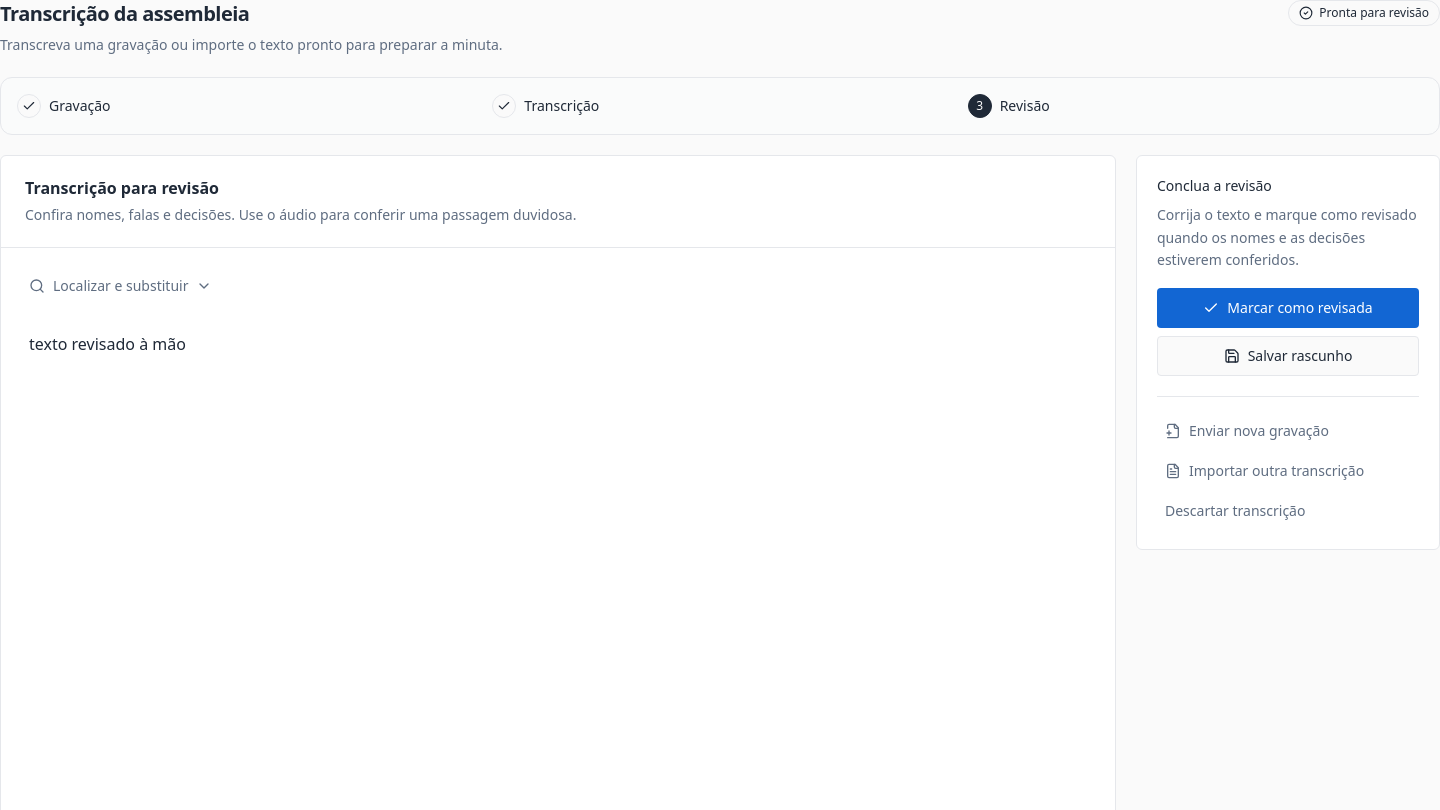
Test: AtaTranscriptionPanel › returns the panel to the upload state after discarding
Click the button "Descartar transcrição" at (1288, 511), box [1157,493,1419,529]
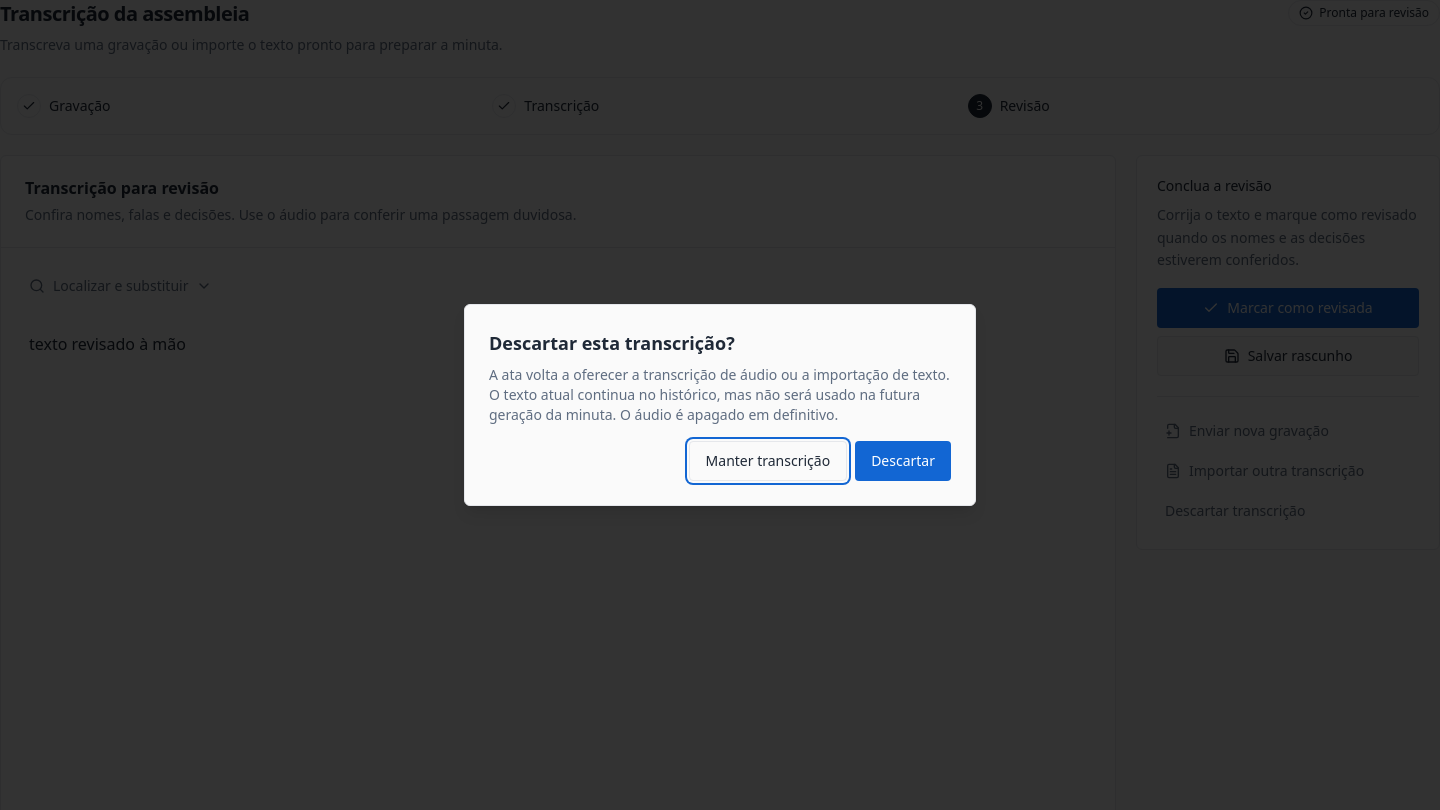
Click the button "Descartar" at (903, 461), box [855,441,951,481]
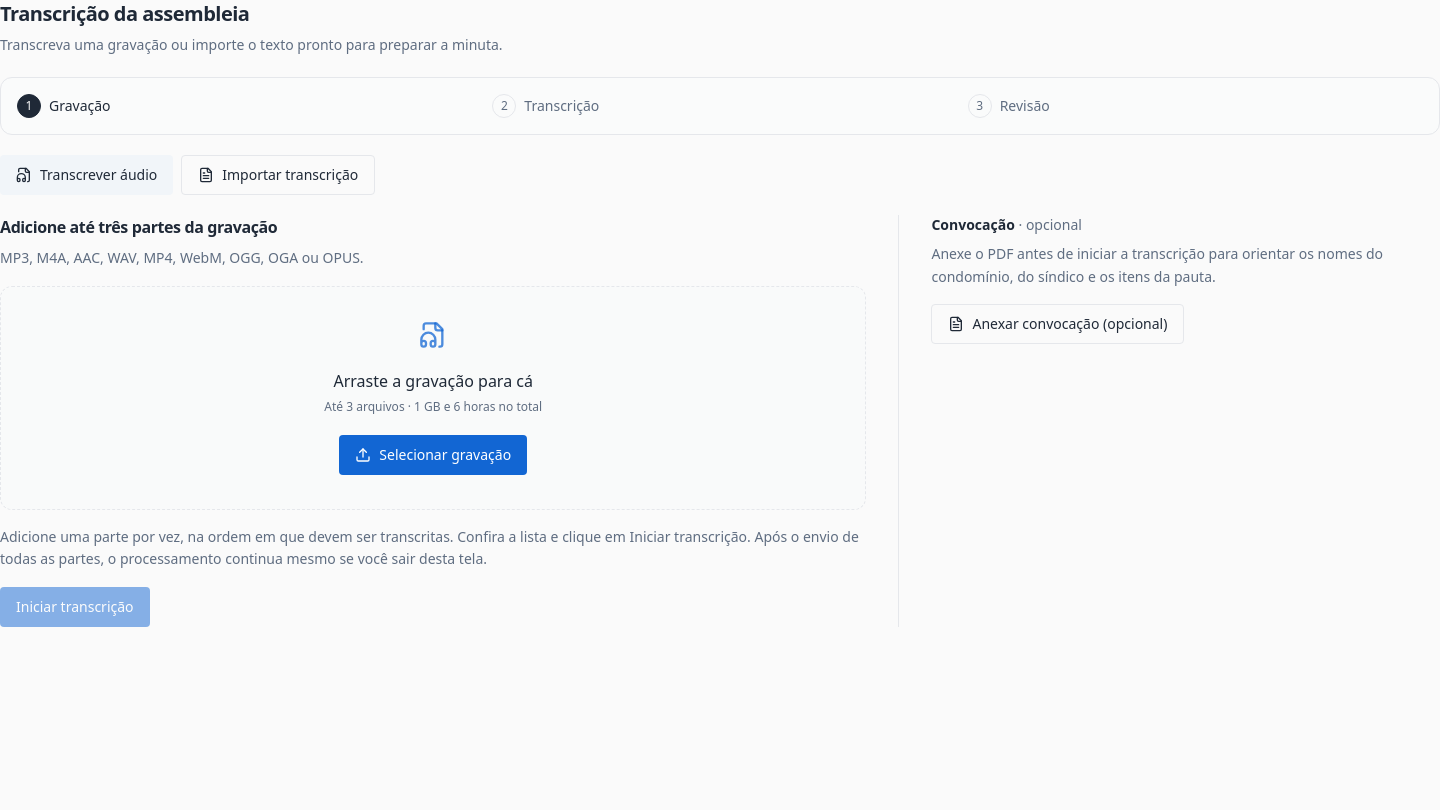
Check: the heading "Adicione até três partes da gravação" is shown, box [0,216,277,238]
